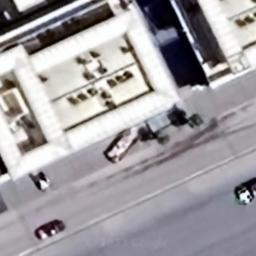sedan: (32, 216, 70, 242)
truck: (106, 121, 144, 164), (234, 172, 256, 206)
